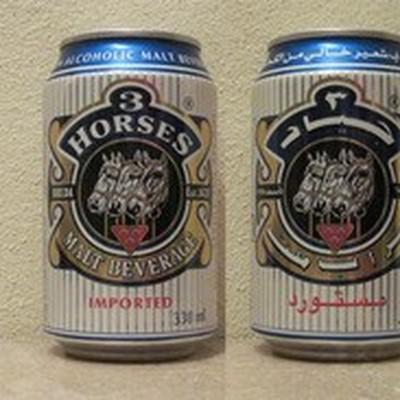beer: (45, 30, 400, 363)
